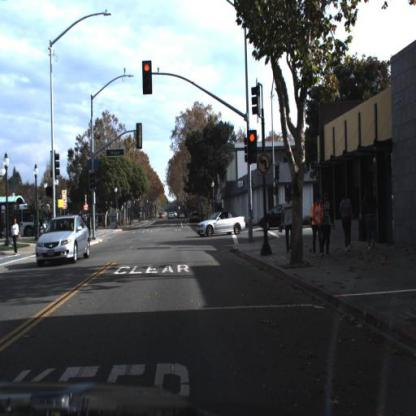car: (36, 213, 94, 267), (198, 209, 247, 240), (261, 202, 289, 233)
pedestrian: (360, 176, 380, 254), (339, 188, 355, 256), (280, 193, 296, 253), (340, 189, 354, 255), (324, 193, 337, 254), (312, 194, 324, 254), (10, 217, 21, 255), (11, 216, 20, 256)
trafficLight-Red: (141, 60, 155, 96), (246, 129, 257, 165), (249, 131, 257, 162)
truck: (1, 203, 52, 224)
